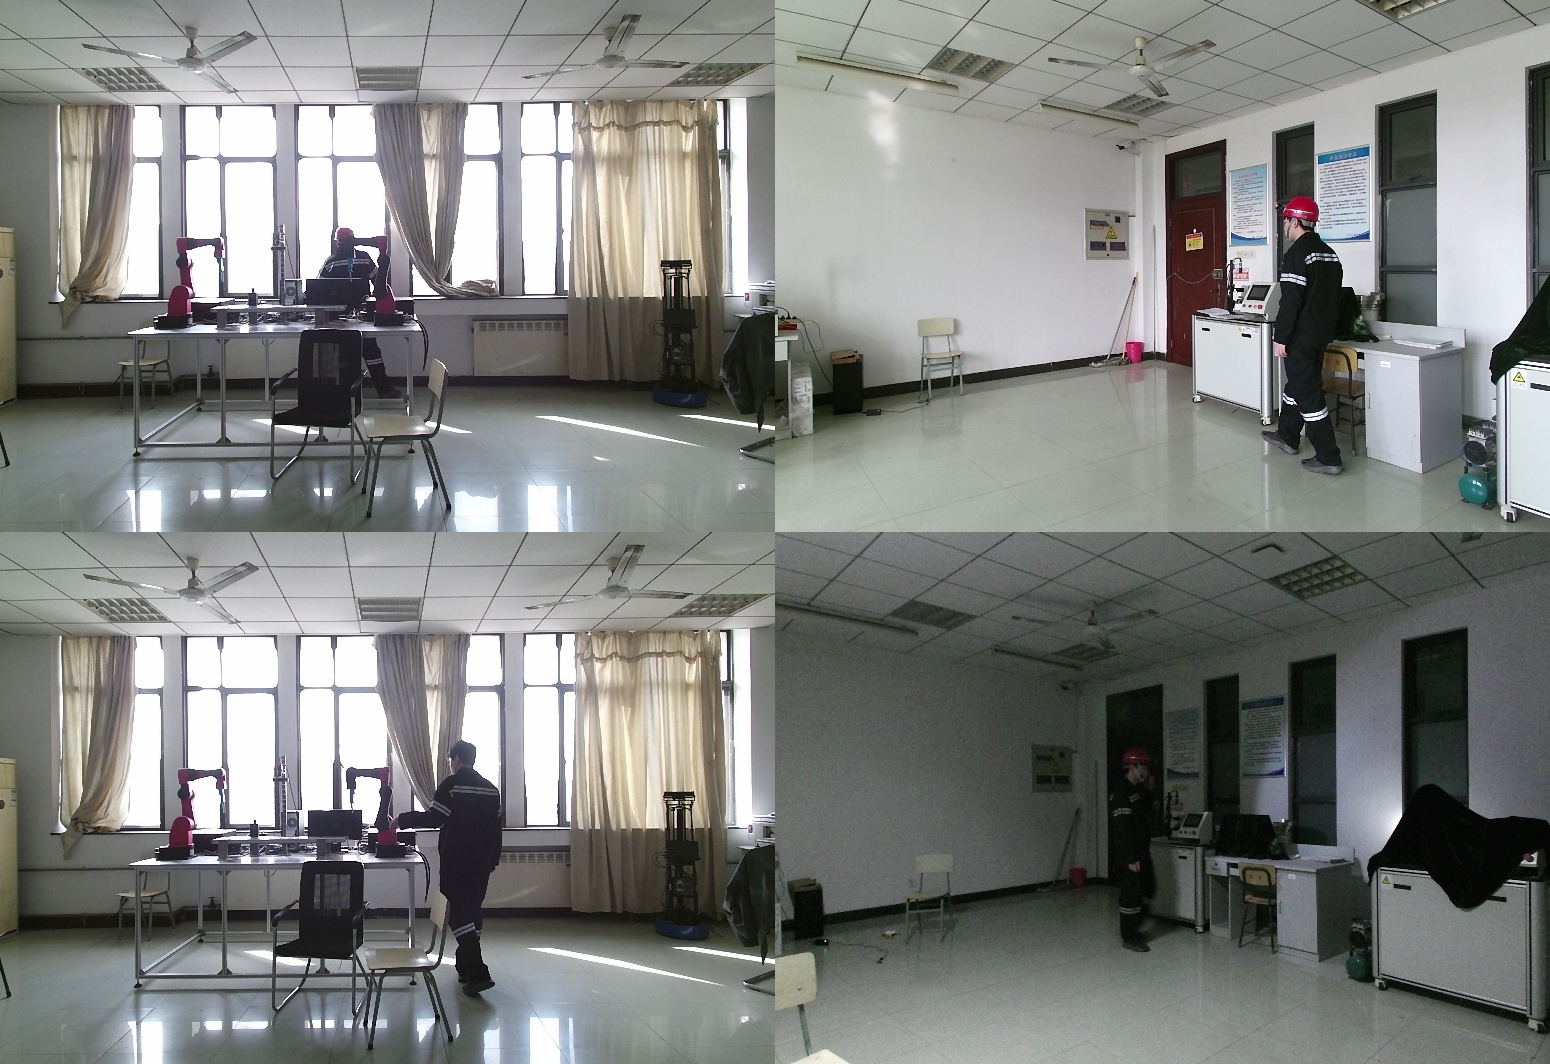person: (405, 750, 509, 999), (1270, 194, 1351, 471), (314, 229, 395, 402), (1106, 748, 1171, 958)
